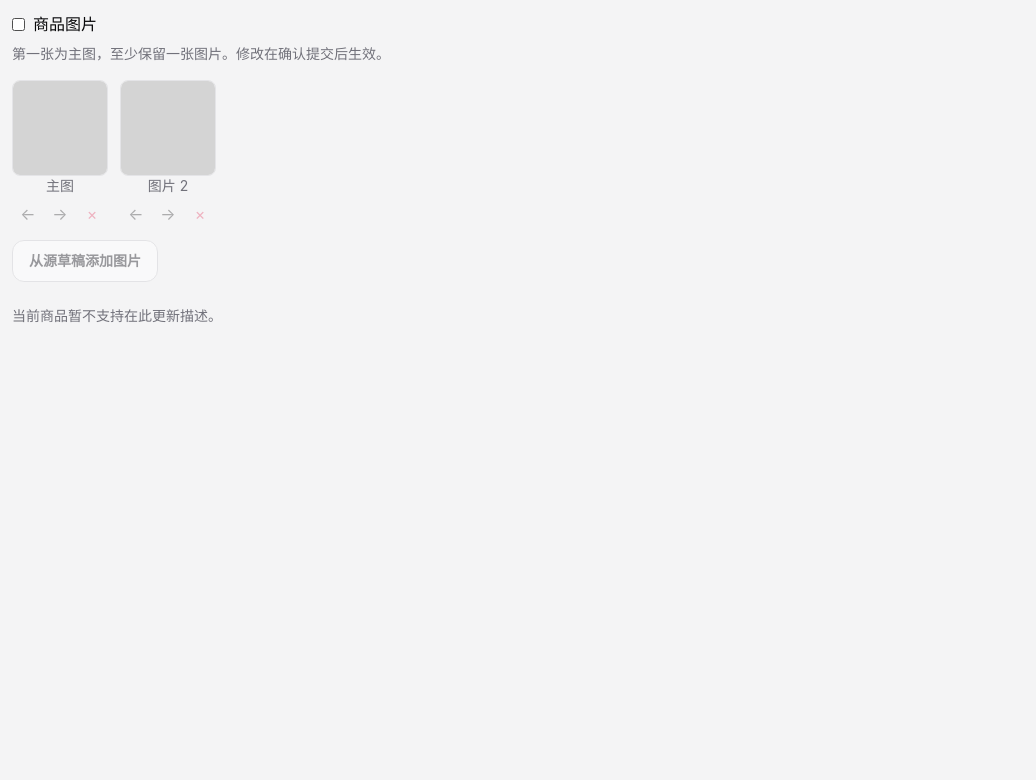
在线商品图片编辑 › 仅从当前商品源草稿多选，排除重复，提交资产引用并独立提供预览
What coordinates should you click on to do the following:
click the checkbox labelled "商品图片"
I would click on:
 (18, 24)
Its box is [12,18,25,30].
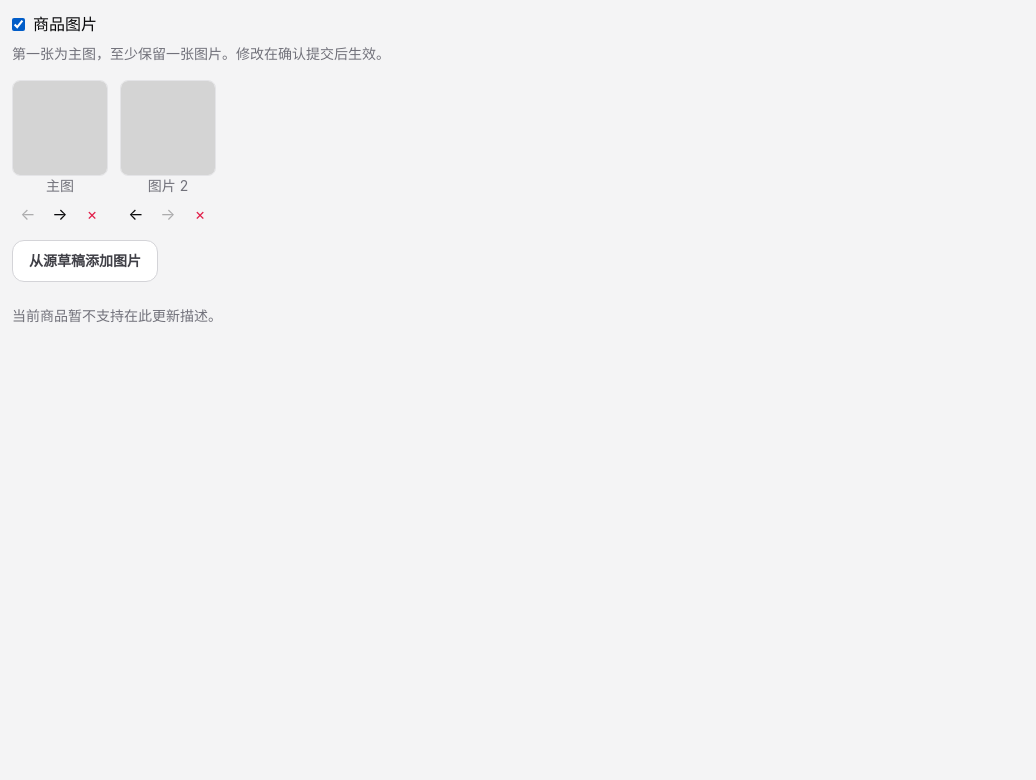
What coordinates should you click on to do the following:
click the button "从源草稿添加图片"
I would click on:
 (85, 261)
Its box is [12,240,158,282].
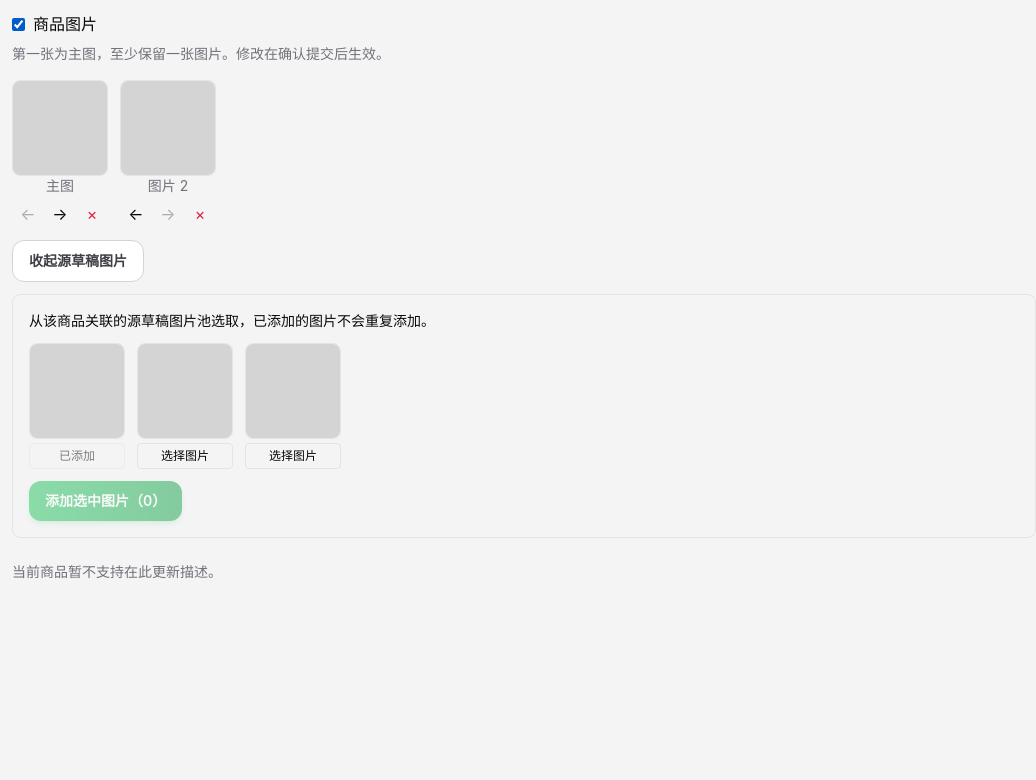
Expected: the button with aria-label "选择源草稿图片 1" is disabled, [29,443,125,469]
What coordinates should you click on to do the following:
click the button with aria-label "选择源草稿图片 3"
I would click on:
 (293, 456)
Its box is [245,443,341,469].
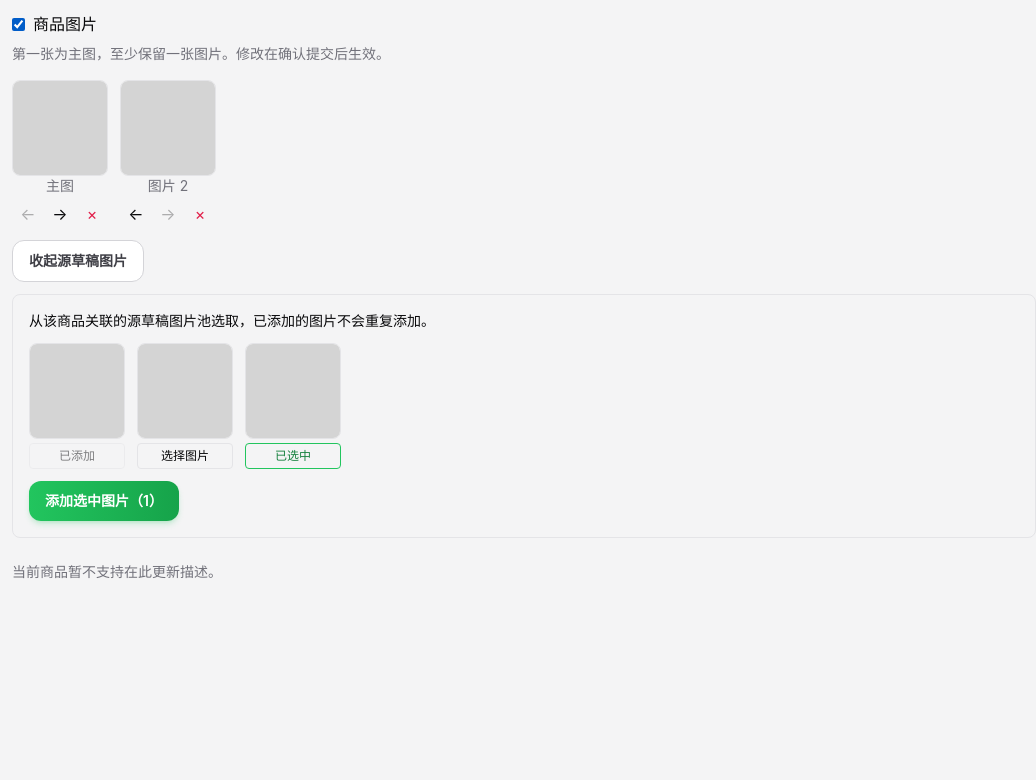
What coordinates should you click on to do the following:
click the button with aria-label "选择源草稿图片 2"
I would click on:
 (185, 456)
Its box is [137,443,233,469].
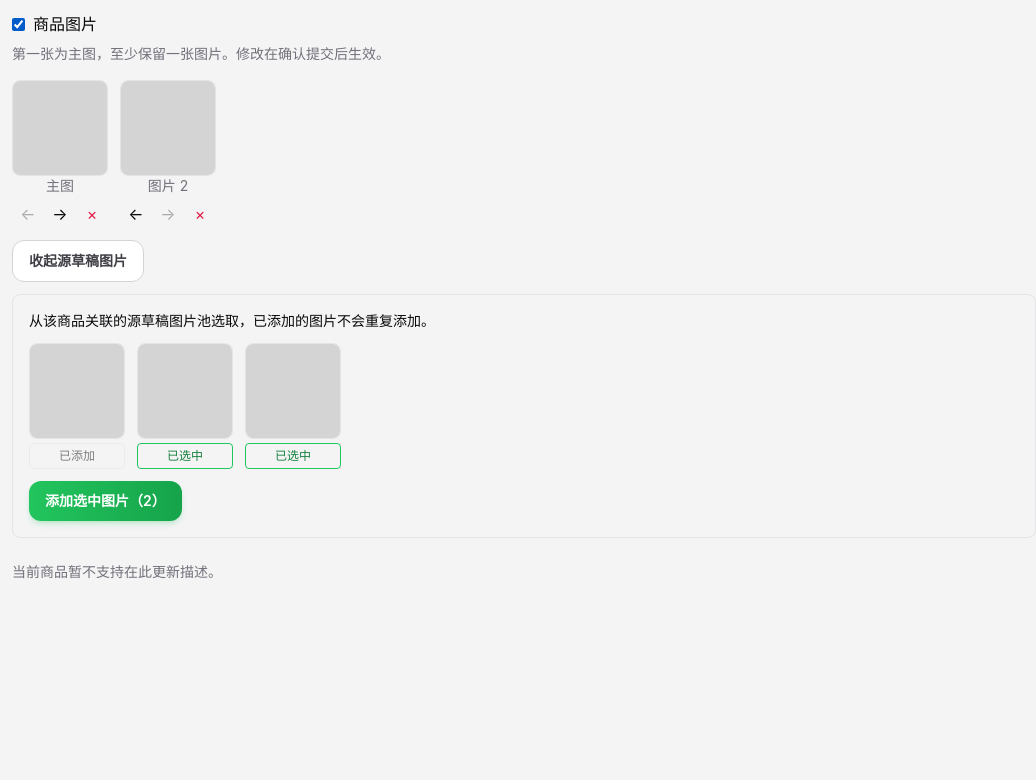
What coordinates should you click on to do the following:
click the button "添加选中图片（2）"
I would click on:
 (105, 501)
Its box is [29,481,182,521].
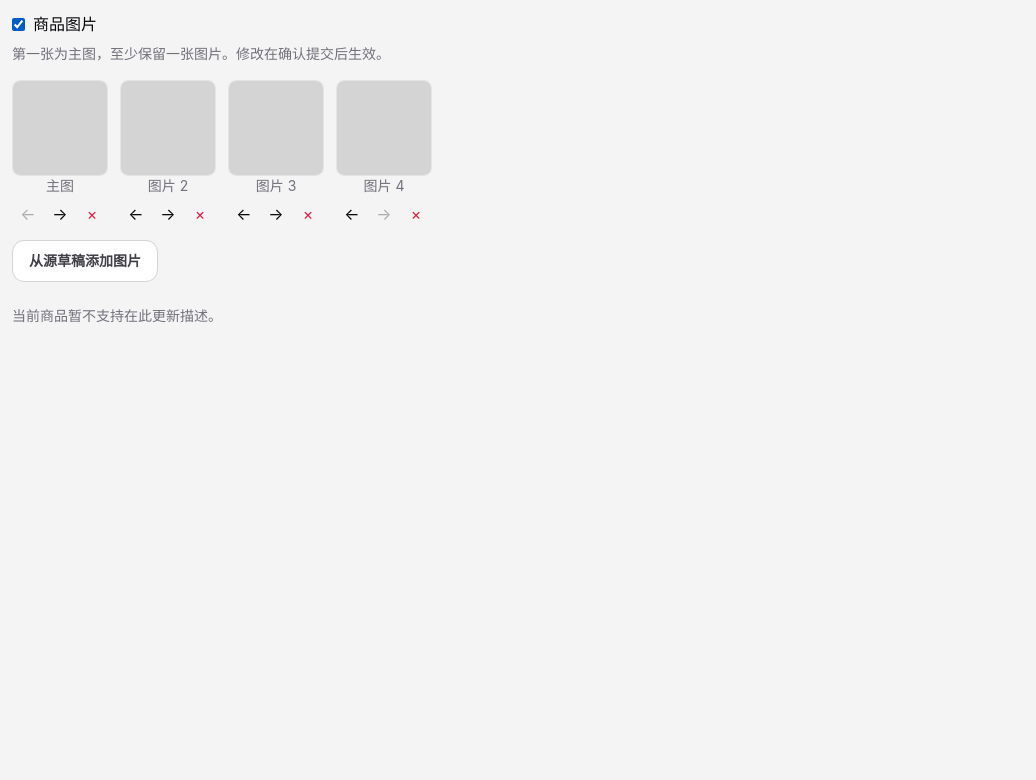
What coordinates should you click on to do the following:
click the button "从源草稿添加图片"
I would click on:
 (85, 261)
Its box is [12,240,158,282].
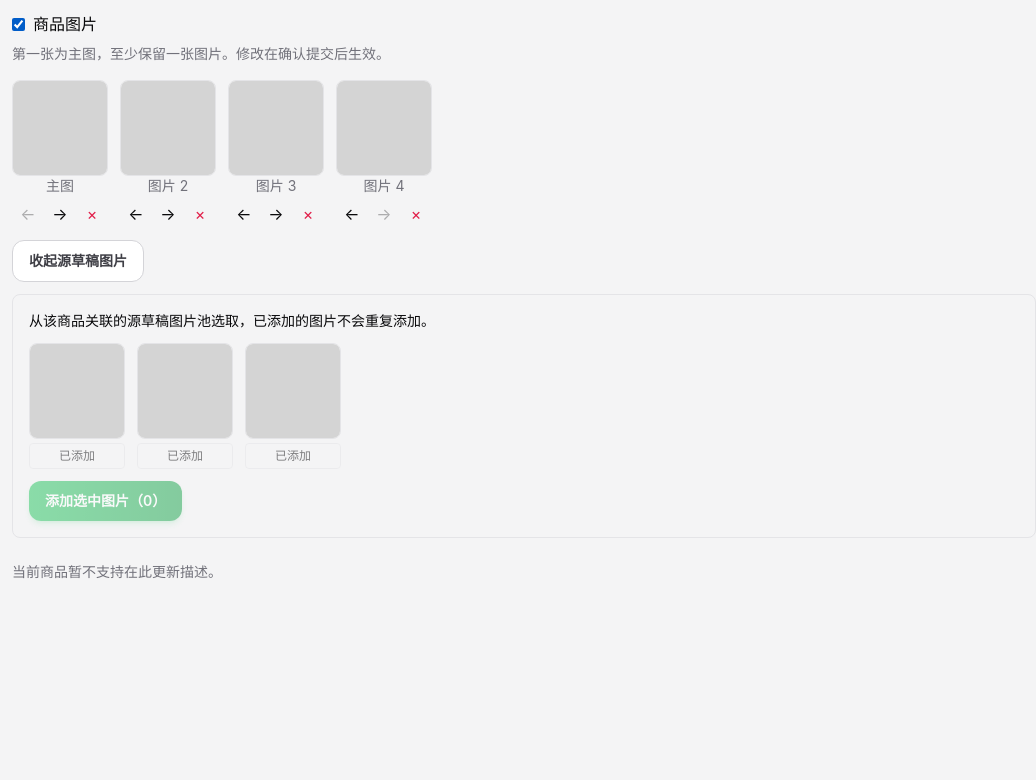
Expected: the button with aria-label "选择源草稿图片 2" reads "已添加", [137,443,233,469]
